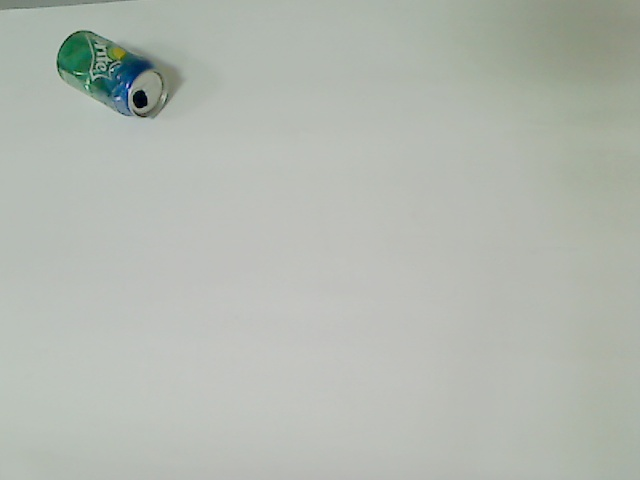can: (54, 29, 169, 120)
